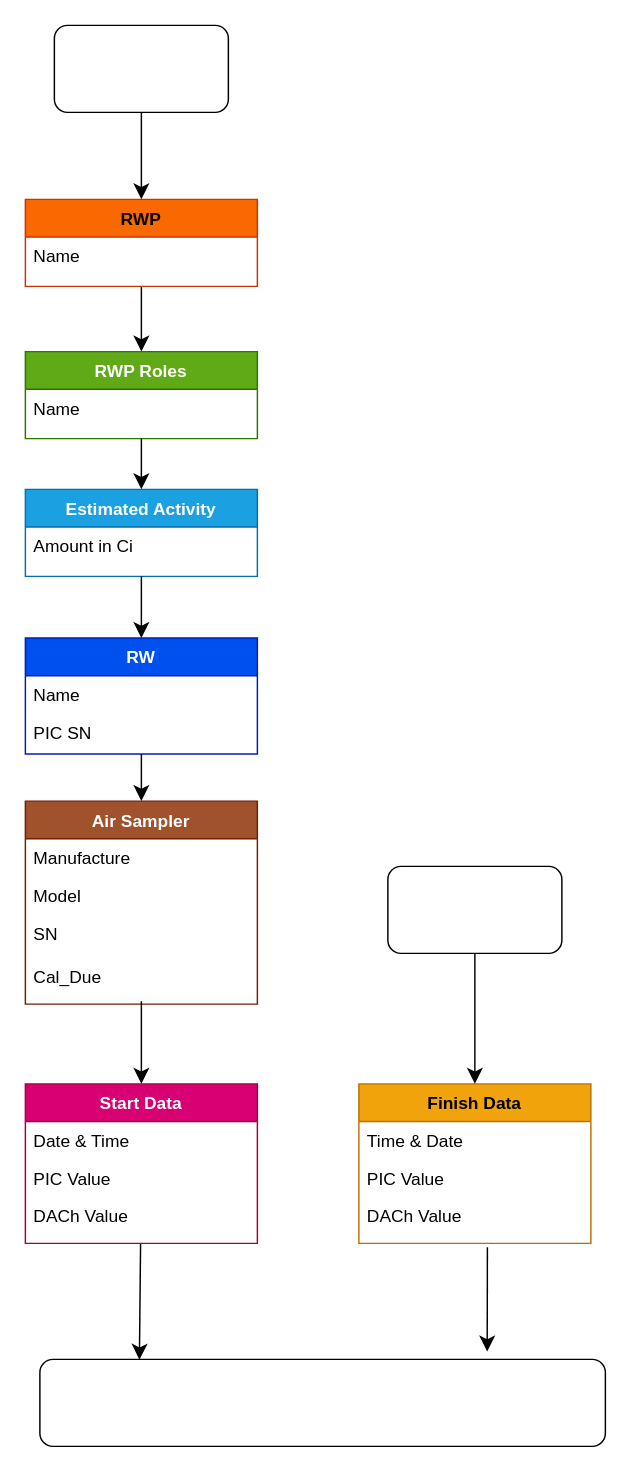
The diagram is 631 pixels wide and 1472 high, and some of its shapes have lost their labels. The shapes that lost their labels are listed below. From the top down, each one's centre as x and y in pixels, then its label:
the point at 140,68: START
the point at 474,909: FINISH
the point at 321,1402: SUBMIT
